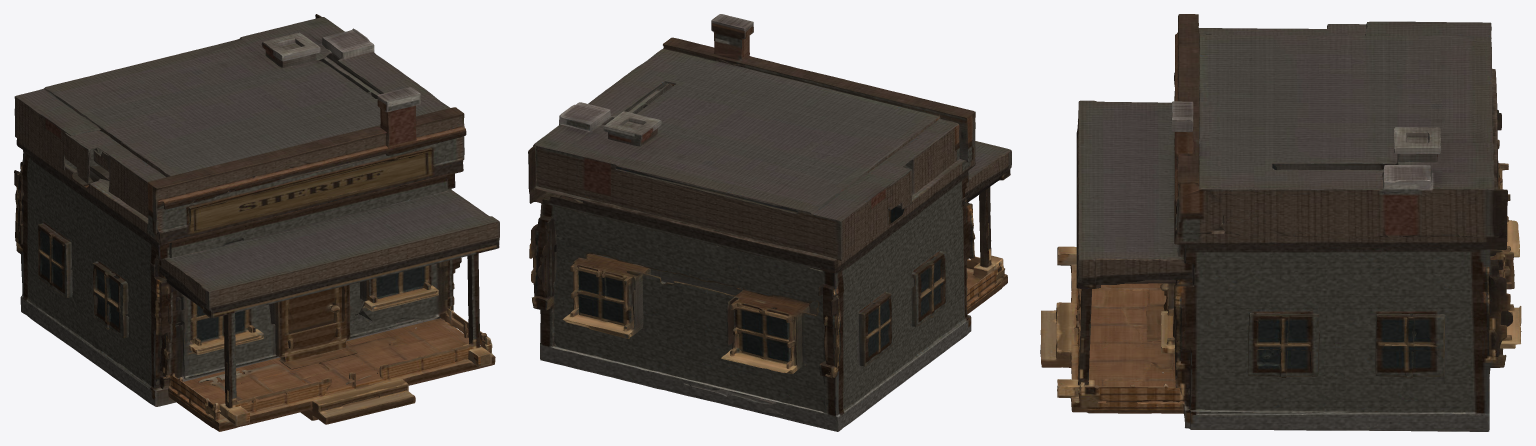
File: scene-0-objects-4-glbData-ba54654c58db.glb
3 renders of one model, left to right at view 1: azimuth 30°, elevation 25°; view 2: azimuth 150°, elevation 25°; view 3: azimuth 270°, elevation 25°, orthographic. The views are drawn at different scales.
Parts seen in each view (by area): view 1: Sheriff_House_Optimized; view 2: Sheriff_House_Optimized; view 3: Sheriff_House_Optimized.
Part boxes in pixels (<box>): Sheriff_House_Optimized: <box>14,14,499,431</box>; Sheriff_House_Optimized: <box>528,14,1011,431</box>; Sheriff_House_Optimized: <box>1040,14,1521,431</box>.
Bounding box in the file's own units: 7.2 × 5.8 × 8.5.
Materials: 1 (1 with a texture image).
